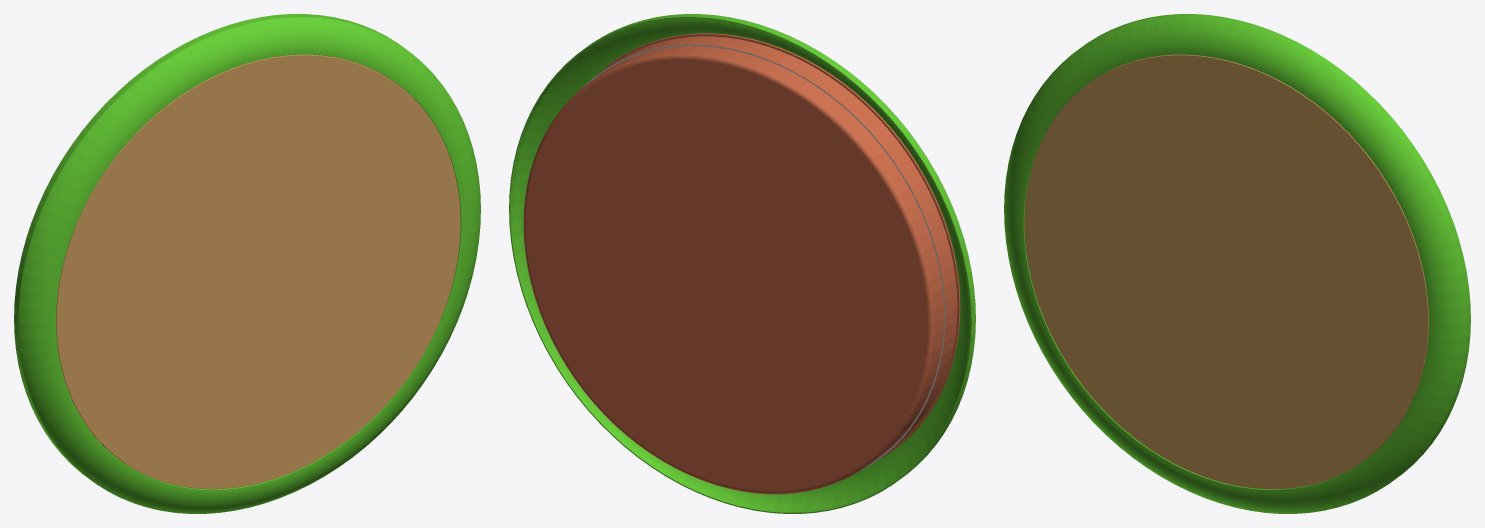
File: Wanduhr.fbx
3 renders of one model, left to right at view 1: azimuth 30°, elevation 25°; view 2: azimuth 150°, elevation 25°; view 3: azimuth 330°, elevation 25°, orthographic.
Visible parts, largest first — view 1: Front_Glass, Metal_Rim; view 2: Back, Metal_Rim, Background; view 3: Front_Glass, Metal_Rim.
Boxes of the visible parts, x1,y1,x2,y2 form: Front_Glass: (56, 54, 460, 489); Metal_Rim: (14, 14, 480, 513); Back: (523, 33, 960, 494); Metal_Rim: (509, 14, 975, 513); Background: (582, 44, 945, 470); Front_Glass: (1024, 54, 1428, 489); Metal_Rim: (1004, 14, 1470, 513).
Bounding box in the file's own units: 40 × 40 × 4.
